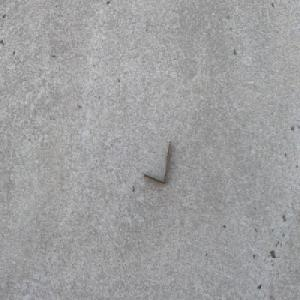MetalPart: (142, 138, 171, 184)
